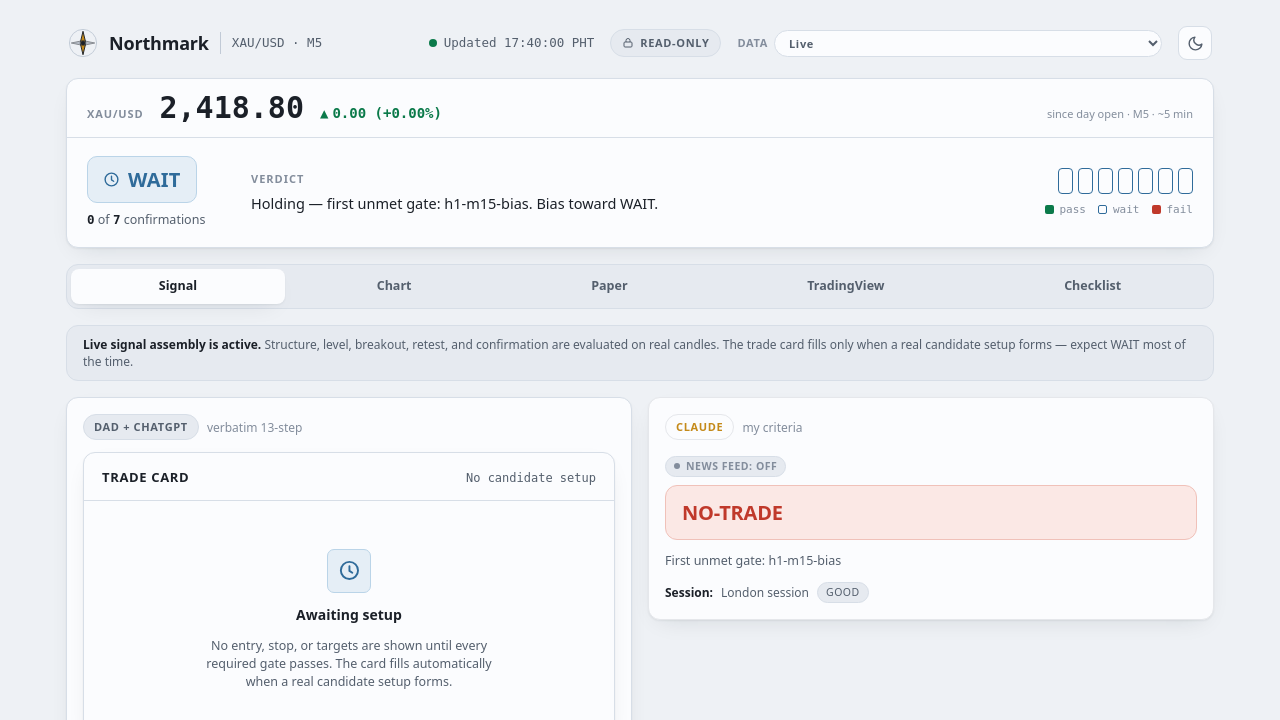
Test: interactive controls are read-only across tabs — no buy/order/execute anywhere
Expected: the number of buttons is 1, [1178,26,1212,60]
// Chart tab exposes only the read-only M5/M15/H1 timeframe toggle.
Click the tab "Chart" at (394, 286), box [289,269,499,304]
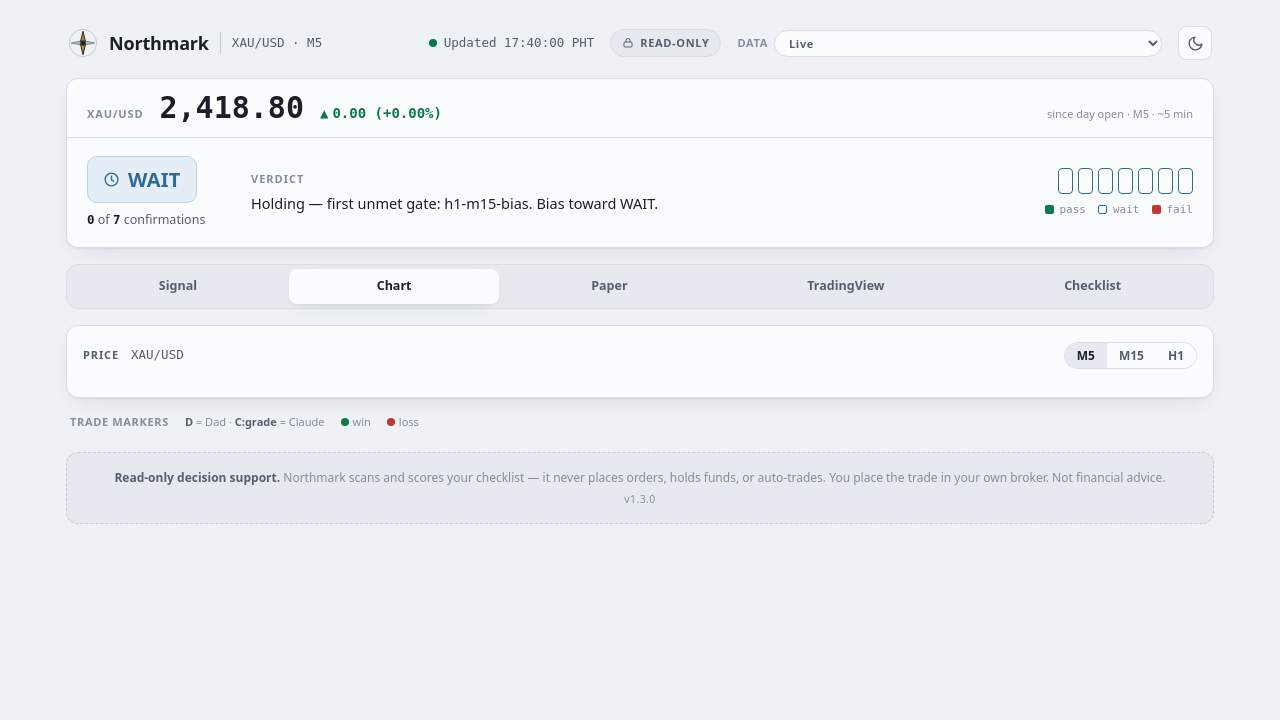
Expected: the button "M15" is shown, [1107,342,1156,368]
Now the button "M5" is shown, box [1065,342,1107,368]
Click the tab "Paper" at (609, 286), box [503,269,716,304]
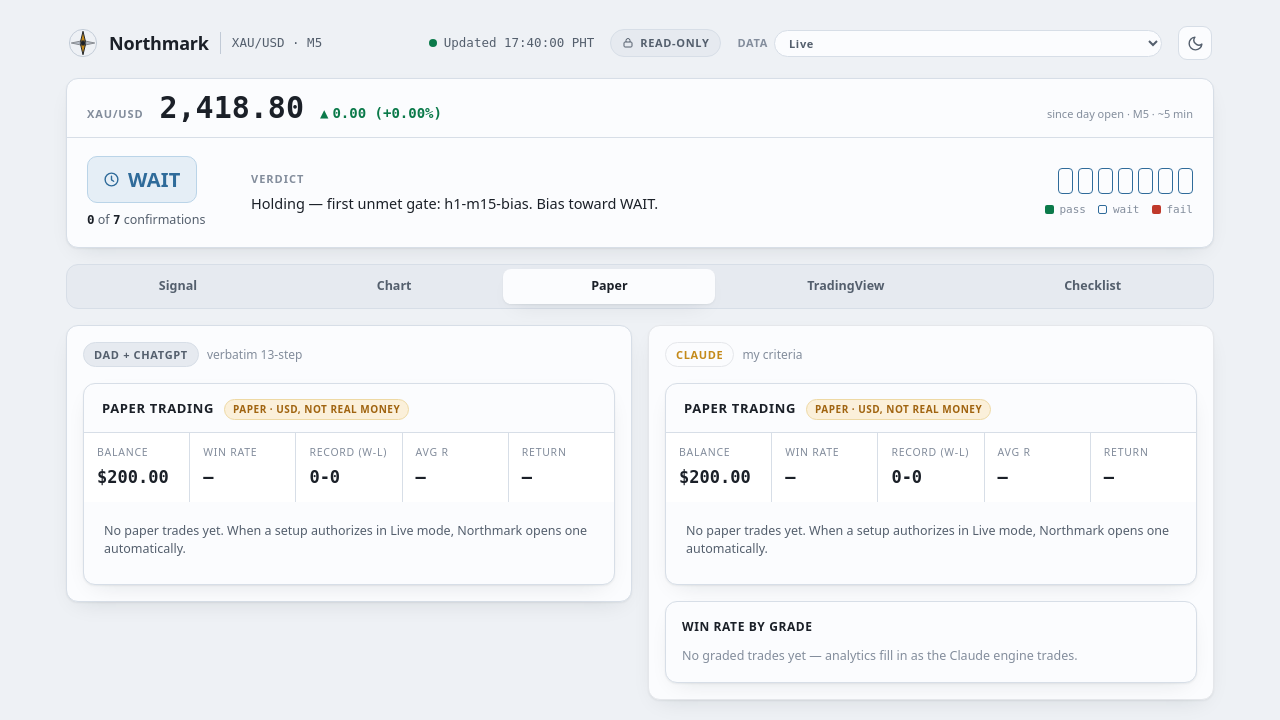
Now the text "Paper · USD, not real money" is shown 2 times, box [224,400,409,420]; [806,400,991,420]
